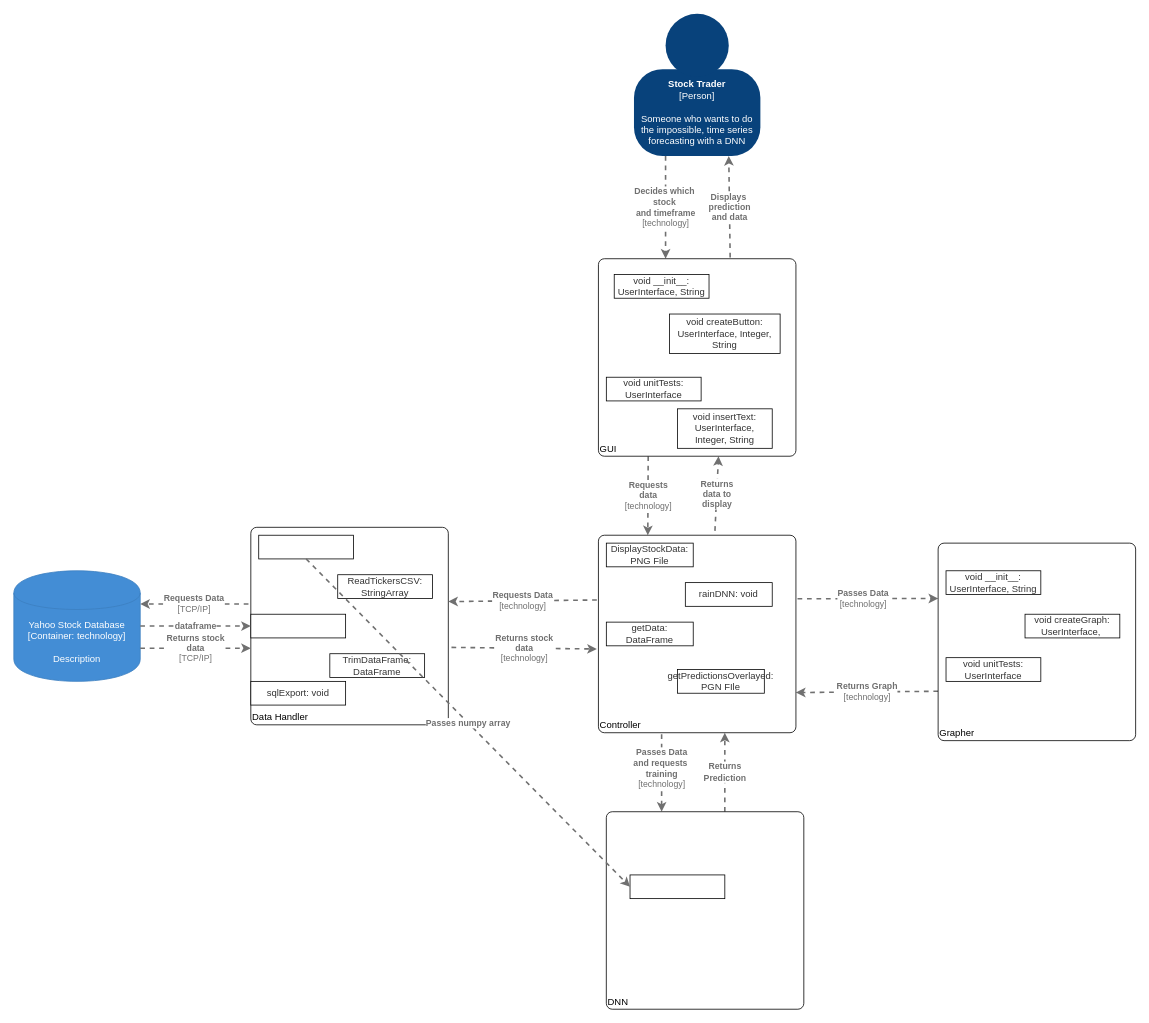
This 1149x1023 diagram has some shape labels left out. Here are the shapes that lost their labels. From the top down, the centre of each, then its label:
At (x=306, y=546): "ReadTicker: numpy Array".
At (x=298, y=625): "GenYahDataFrame: DataFrame".
At (x=677, y=886): "CreateModel".
